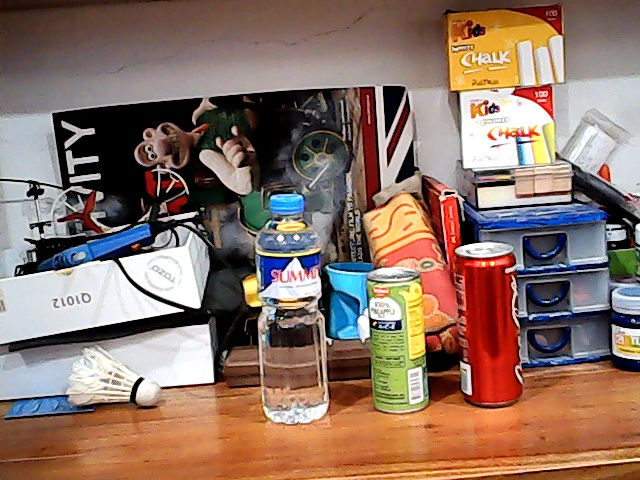Cola: (445, 234, 527, 416)
Pine Juice: (354, 259, 434, 417)
Summit Water: (246, 187, 338, 427)
